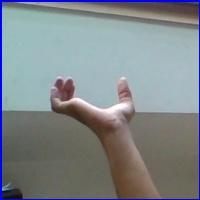B: (45, 72, 141, 136)
